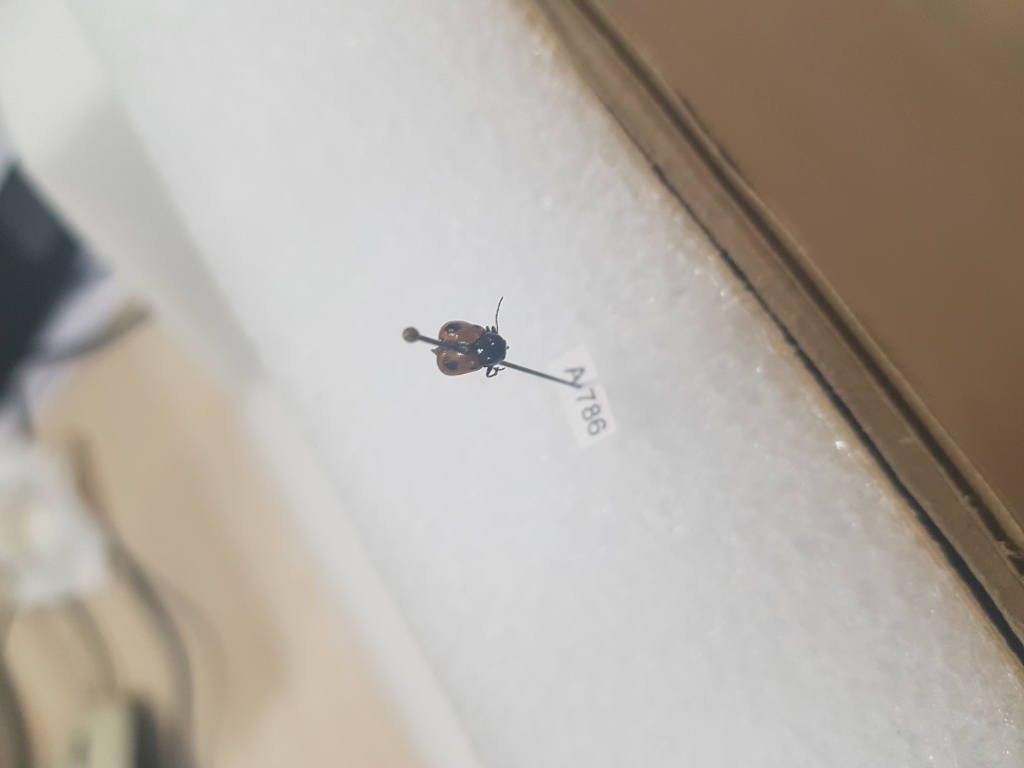Cryptocephalus_bipunctatus: (431, 316, 512, 389)
